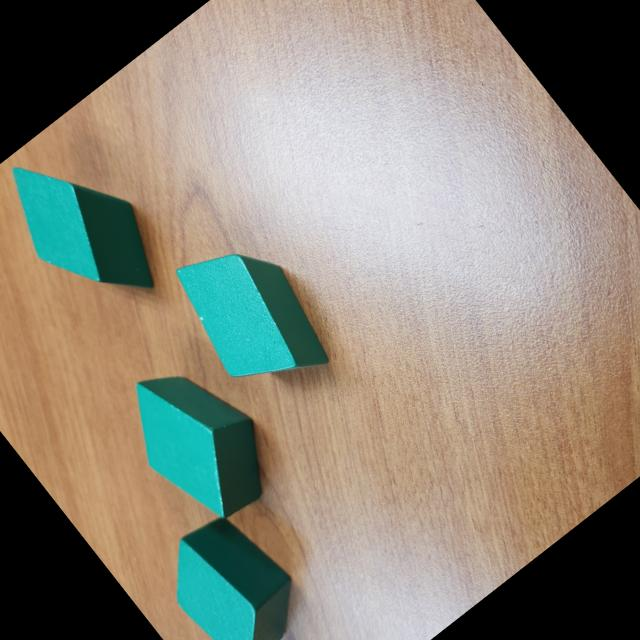green: (0, 121, 182, 332), (106, 340, 296, 540), (158, 220, 345, 416), (147, 498, 324, 640)
